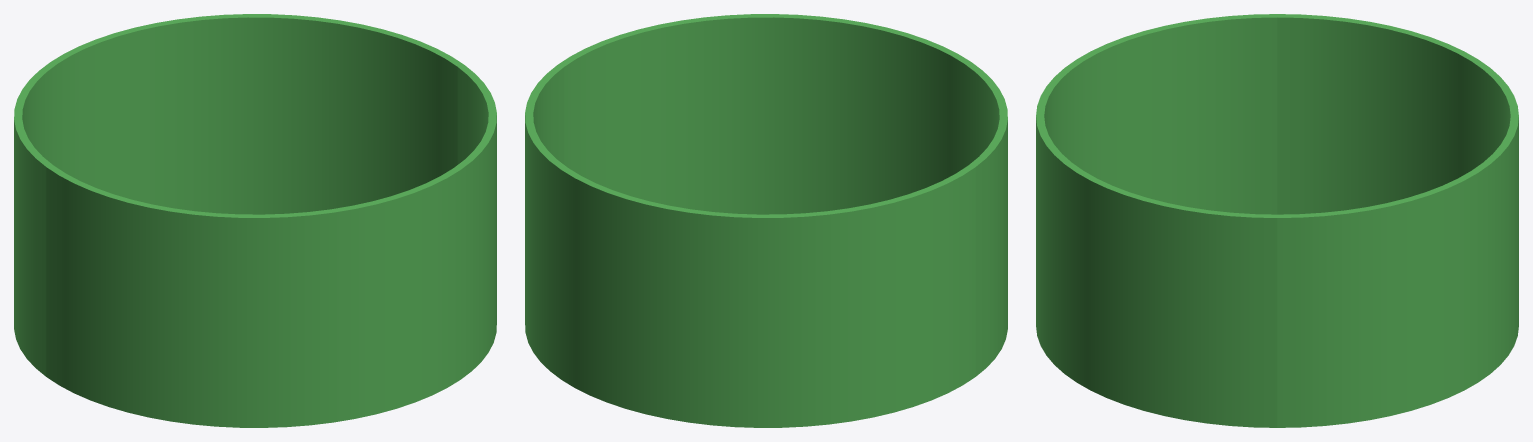
Rendered from vacuum_dryer_pressure.glb.
3 views of the same model, side by side, from view 1: azimuth 30°, elevation 25°; view 2: azimuth 150°, elevation 25°; view 3: azimuth 270°, elevation 25° (orthographic).
Visible parts, largest first — view 1: pressure__front, pressure__back; view 2: pressure__back, pressure__front; view 3: pressure__back, pressure__front.
Boxes of the visible parts, x1,y1,x2,y2 form: pressure__front: [46, 65, 496, 427]; pressure__back: [14, 14, 463, 376]; pressure__back: [525, 65, 975, 427]; pressure__front: [558, 14, 1007, 376]; pressure__back: [1277, 14, 1518, 427]; pressure__front: [1036, 14, 1277, 427].
Bounding box in the file's own units: 1.46 × 0.7 × 1.46.
